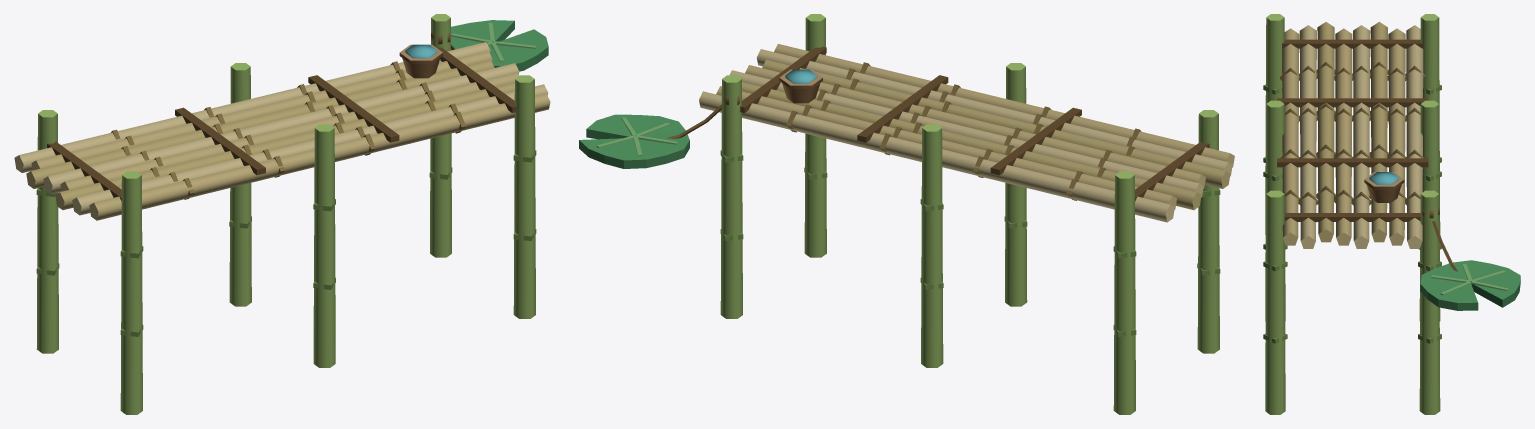
Rendered from pier.glb.
3 views of the same model, side by side, from view 1: azimuth 30°, elevation 25°; view 2: azimuth 150°, elevation 25°; view 3: azimuth 270°, elevation 25° (orthographic). The views are drawn at different scales.
Visible parts, largest first — view 1: body_nl, body, body_nh; view 2: body_nl, body, body_nh; view 3: body_nl, body, body_nh.
Boxes of the visible parts, <box> form: body_nl: <box>14,33,550,336</box>; body: <box>36,14,548,414</box>; body_nh: <box>451,23,536,61</box>; body_nl: <box>699,44,1234,336</box>; body: <box>579,14,1219,414</box>; body_nh: <box>596,104,722,155</box>; body_nl: <box>1263,21,1441,343</box>; body: <box>1265,14,1520,414</box>; body_nh: <box>1431,221,1508,295</box>.
Size of the model in its own units: 3.76 by 1.52 by 1.63.
